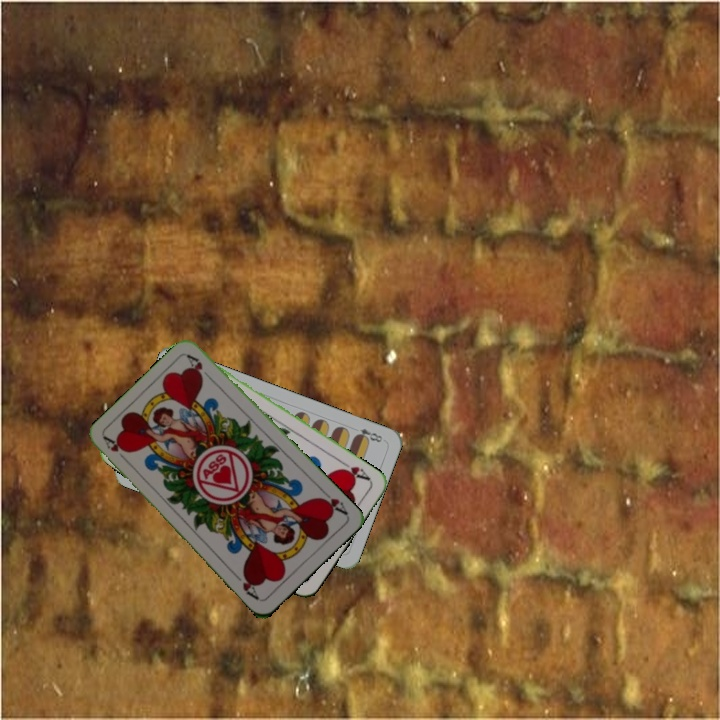E8: (351, 424, 385, 445)
HA: (315, 486, 350, 518), (335, 457, 373, 484), (100, 433, 131, 466)
